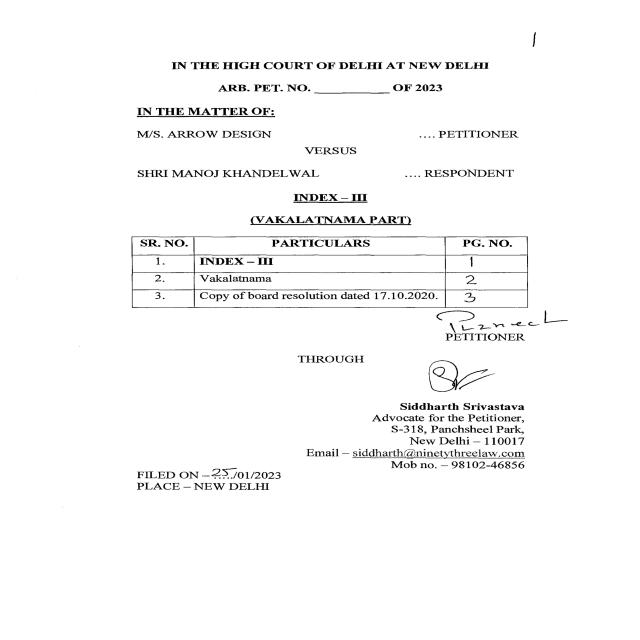page-number: (482, 1, 640, 61)
